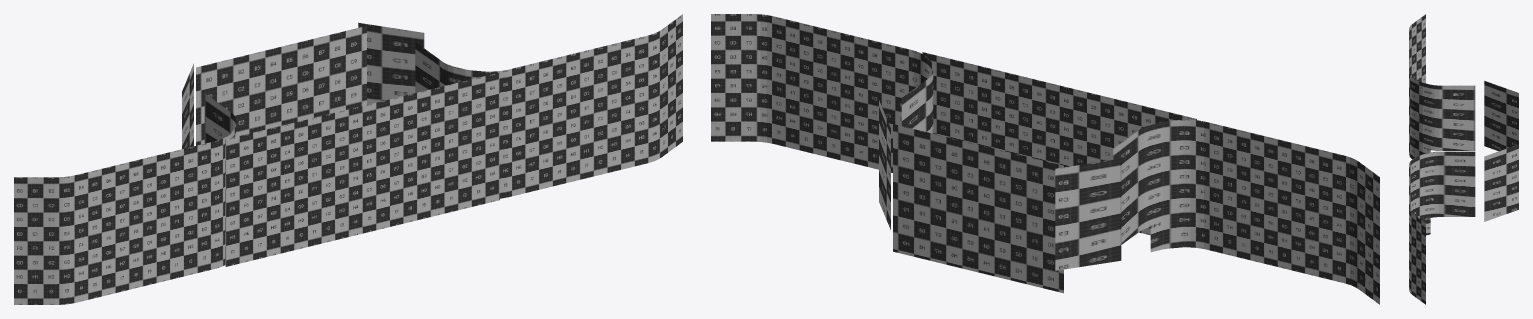
Rendered from ANYMA_Coachella_Stage_v023_C.glb.
3 renders of one model, left to right at view 1: azimuth 30°, elevation 25°; view 2: azimuth 150°, elevation 25°; view 3: azimuth 270°, elevation 25°, orthographic. The views are drawn at different scales.
Visible parts, largest first — view 1: LED_FRONT_C, LED_SR_WING_C, LED_SL_WING_C, LED_US_WALL_C, LED_SL_GARAGE_C, LED_SR_GARAGE_C; view 2: LED_SR_WING_C, LED_SL_WING_C, LED_US_WALL_C, LED_FRONT_C, LED_SR_GARAGE_C, LED_SL_GARAGE_C; view 3: LED_SL_WING_C, LED_SR_WING_C, LED_SL_GARAGE_C, LED_SR_GARAGE_C.
Boxes of the visible parts, bbox=[...] form: LED_FRONT_C: bbox=[225, 72, 499, 266]; LED_SR_WING_C: bbox=[14, 93, 236, 304]; LED_SL_WING_C: bbox=[415, 14, 682, 198]; LED_US_WALL_C: bbox=[196, 26, 366, 145]; LED_SL_GARAGE_C: bbox=[358, 22, 424, 104]; LED_SR_GARAGE_C: bbox=[182, 63, 193, 148]; LED_SR_WING_C: bbox=[1112, 119, 1379, 304]; LED_SL_WING_C: bbox=[711, 14, 933, 172]; LED_US_WALL_C: bbox=[893, 124, 1063, 293]; LED_FRONT_C: bbox=[922, 52, 1196, 235]; LED_SR_GARAGE_C: bbox=[1055, 158, 1121, 270]; LED_SL_GARAGE_C: bbox=[879, 100, 890, 229]; LED_SL_WING_C: bbox=[1409, 151, 1475, 304]; LED_SR_WING_C: bbox=[1409, 14, 1475, 159]; LED_SL_GARAGE_C: bbox=[1484, 144, 1518, 221]; LED_SR_GARAGE_C: bbox=[1484, 81, 1518, 151].
Bounding box in the file's own units: 65.79 × 12.01 × 14.72.
Materials: 2 (2 with a texture image).
